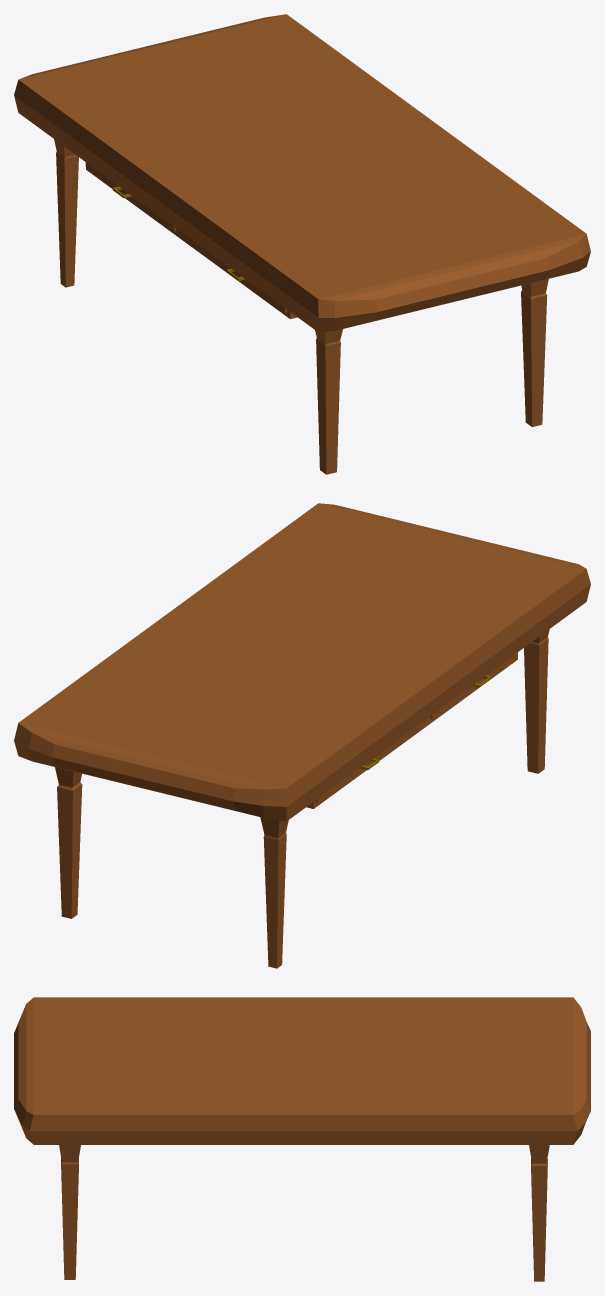
The model's file is table.fbx.
3 renders of one model, top to bottom at view 1: azimuth 30°, elevation 25°; view 2: azimuth 150°, elevation 25°; view 3: azimuth 270°, elevation 25°, orthographic. The views are drawn at different scales.
Visible parts, largest first — view 1: table; view 2: table; view 3: table.
Boxes of the visible parts, bbox=[...] form: table: bbox=[14, 14, 590, 474]; table: bbox=[14, 503, 590, 968]; table: bbox=[14, 997, 590, 1281].
Size of the model in its own units: 5.56 by 3.87 by 11.33.
